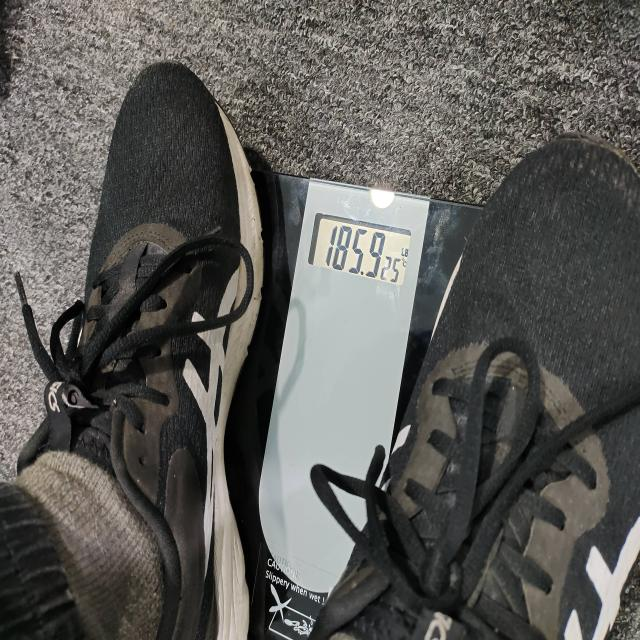ws: (235, 176, 481, 640)
